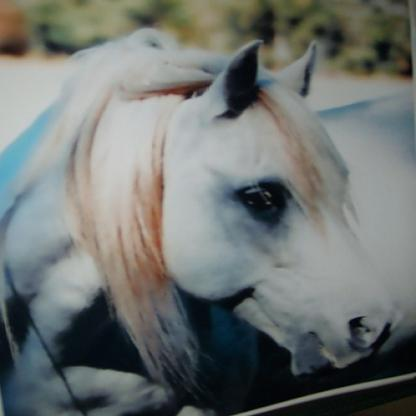horse: (0, 25, 415, 415)
